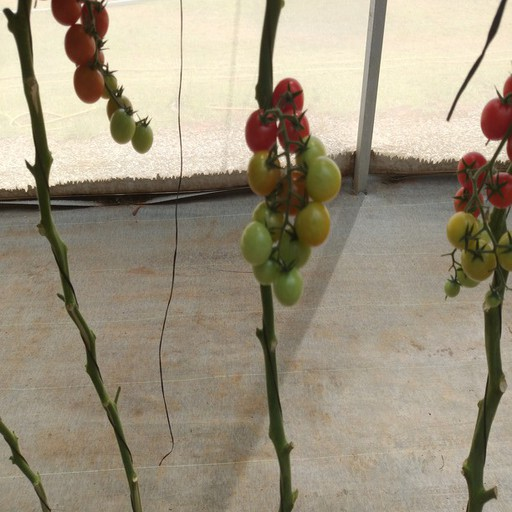green tomato bunch: (244, 79, 341, 304)
mixed tomato bunch: (41, 1, 153, 149), (443, 74, 512, 282)
